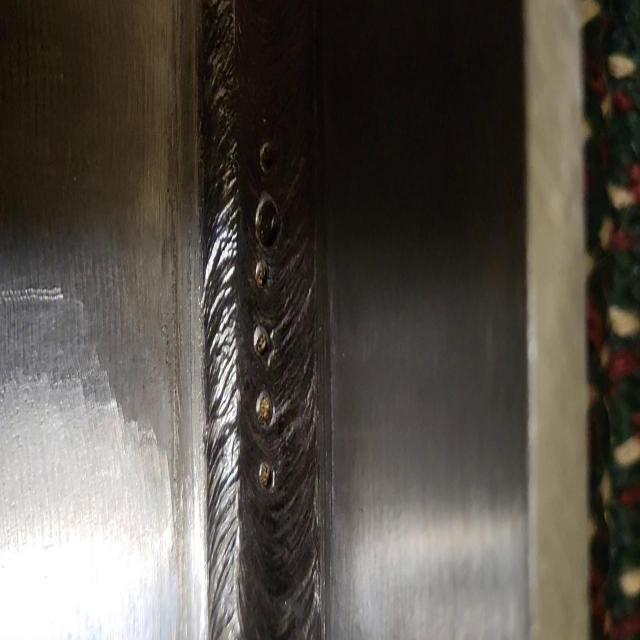Welding Line: (204, 6, 325, 640)
Workpiece: (2, 0, 577, 640)
porosity: (253, 106, 279, 488)
